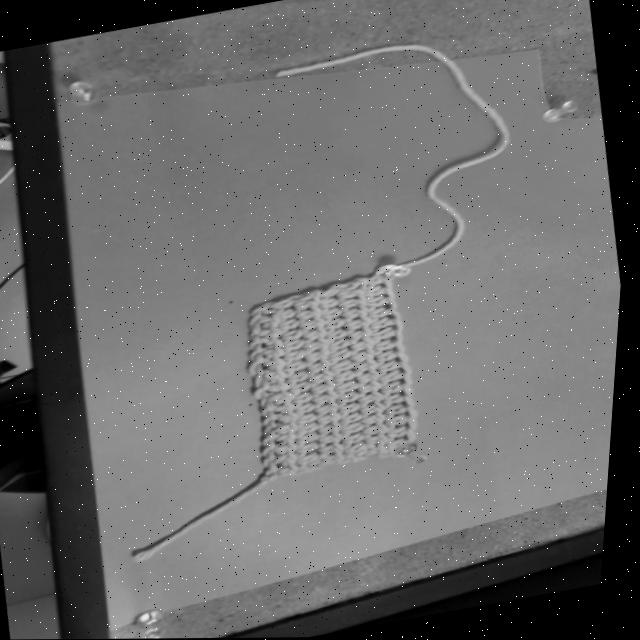ch: (253, 355, 265, 378), (252, 312, 266, 330), (261, 379, 273, 398), (267, 451, 280, 468), (253, 344, 265, 360), (271, 462, 282, 479), (268, 441, 280, 456), (259, 366, 267, 388), (268, 412, 280, 426), (255, 305, 270, 316), (270, 421, 282, 434), (266, 403, 278, 416), (269, 432, 280, 446), (264, 392, 274, 407), (254, 337, 263, 350), (255, 324, 263, 336)
sc: (381, 364, 416, 383), (339, 282, 378, 299), (390, 407, 422, 426), (346, 315, 382, 331), (377, 321, 407, 340), (381, 355, 411, 374), (386, 387, 417, 405), (314, 381, 350, 396), (373, 312, 403, 330), (377, 333, 407, 351), (378, 345, 408, 363), (312, 359, 345, 375), (389, 398, 420, 415), (323, 452, 358, 467), (384, 378, 416, 394), (278, 452, 312, 467), (312, 370, 346, 385), (308, 348, 342, 363), (353, 348, 387, 363), (393, 420, 421, 438), (368, 279, 394, 298), (394, 430, 420, 449), (262, 312, 291, 329), (320, 442, 357, 455), (271, 391, 305, 405), (322, 421, 355, 435), (316, 391, 349, 405), (269, 300, 304, 313), (355, 359, 390, 372), (341, 295, 376, 308), (355, 336, 385, 351), (364, 402, 396, 416), (265, 370, 299, 383), (305, 338, 339, 351), (302, 317, 336, 330), (366, 423, 400, 436), (287, 348, 318, 362), (303, 452, 334, 466), (343, 307, 379, 319), (323, 432, 356, 445), (318, 402, 351, 415), (362, 391, 395, 404), (359, 370, 392, 383), (297, 308, 332, 320), (364, 413, 399, 425), (370, 304, 400, 318), (323, 412, 355, 425), (306, 328, 338, 341), (324, 284, 350, 300), (333, 360, 365, 373), (361, 380, 393, 393), (352, 326, 384, 339), (278, 401, 309, 414), (272, 379, 303, 392), (300, 432, 333, 444), (335, 370, 368, 382), (334, 348, 362, 362), (279, 441, 309, 454), (267, 358, 297, 371), (345, 422, 375, 435), (339, 381, 371, 393), (348, 442, 380, 454), (279, 412, 310, 424), (265, 347, 296, 359), (284, 329, 315, 341), (340, 391, 371, 403), (280, 432, 310, 444), (369, 294, 396, 307), (328, 317, 357, 329), (328, 328, 357, 340), (333, 338, 362, 350), (343, 403, 372, 415), (279, 423, 310, 434), (290, 372, 321, 383), (266, 338, 294, 350), (282, 318, 310, 330), (301, 422, 329, 434), (283, 464, 311, 476), (345, 412, 373, 424), (261, 327, 291, 338), (298, 299, 331, 309), (295, 290, 325, 301), (369, 434, 399, 445), (302, 412, 329, 424), (326, 307, 353, 319), (373, 444, 400, 456), (303, 442, 332, 453), (347, 433, 376, 444), (354, 451, 383, 462), (289, 339, 317, 350), (294, 382, 322, 393), (323, 298, 350, 309), (290, 362, 319, 372), (298, 392, 324, 403), (300, 404, 327, 413), (285, 308, 307, 319)
